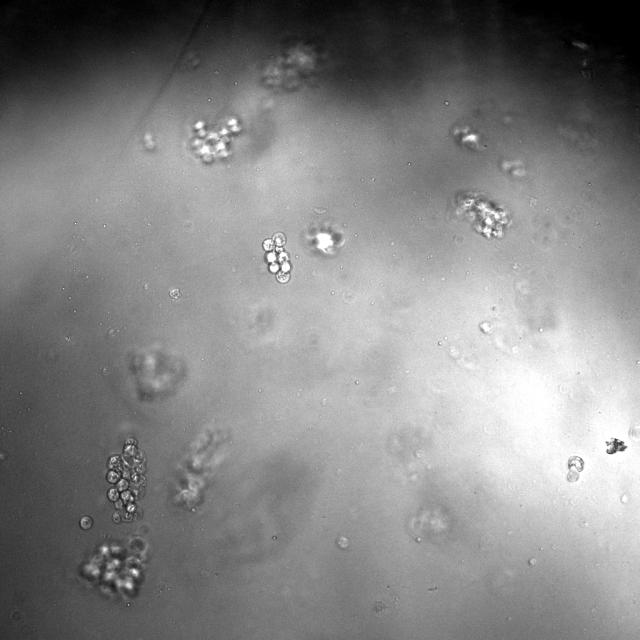organoid: (174, 428, 230, 508), (79, 535, 148, 597), (105, 438, 146, 523), (129, 347, 186, 401), (261, 39, 321, 90), (453, 192, 511, 239), (189, 118, 242, 163), (263, 232, 291, 283), (306, 219, 344, 256), (451, 123, 484, 151), (566, 455, 584, 482), (79, 515, 93, 530), (479, 320, 494, 334), (628, 424, 639, 441)
